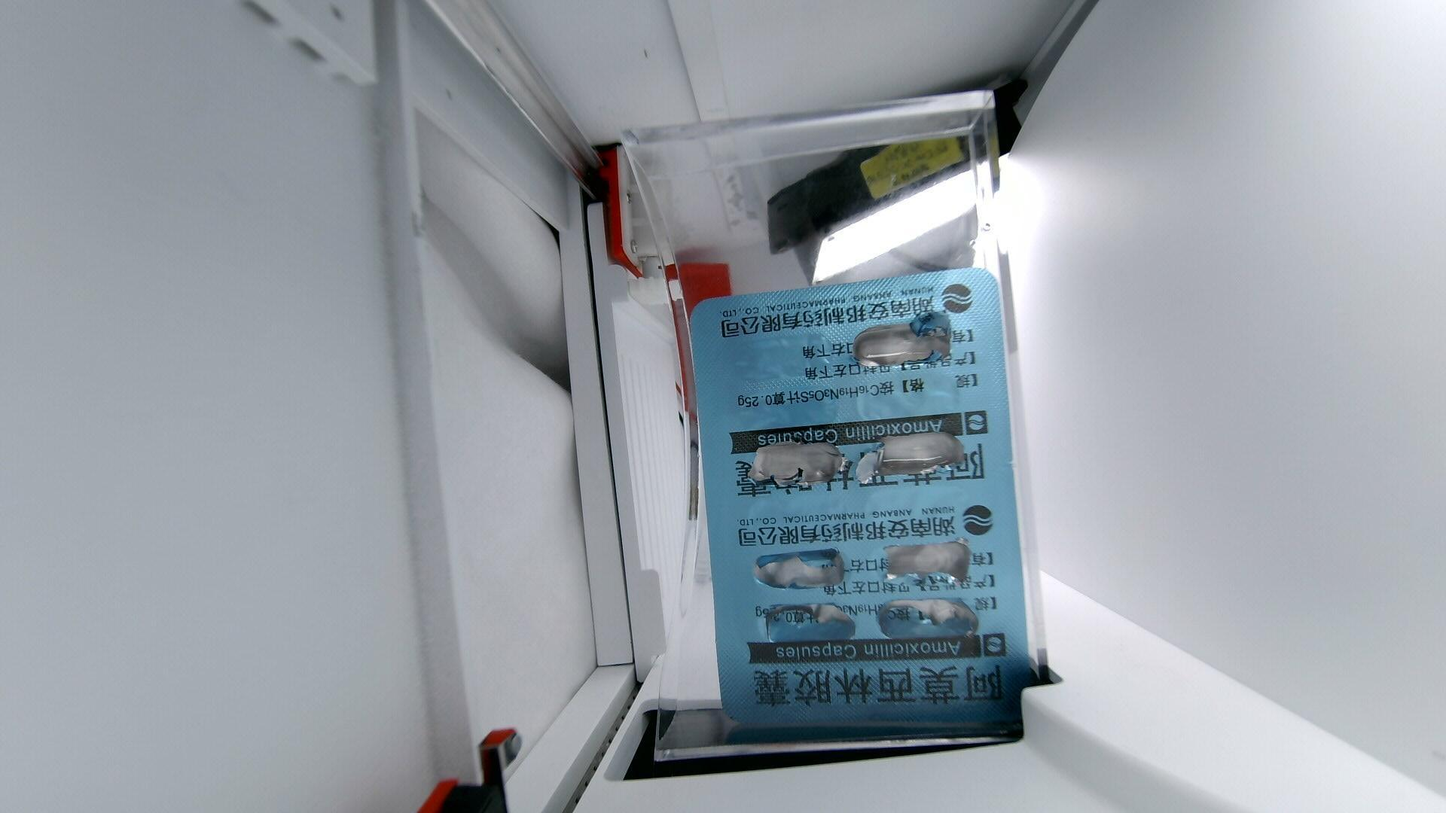No Pill Back: (878, 595, 979, 659), (762, 601, 859, 659), (850, 315, 960, 364), (748, 440, 848, 493), (859, 429, 971, 476), (746, 545, 847, 595), (869, 538, 975, 582)
Pill Back: (856, 481, 981, 544), (716, 324, 836, 388), (853, 369, 969, 429), (722, 388, 839, 442), (741, 492, 849, 545)
